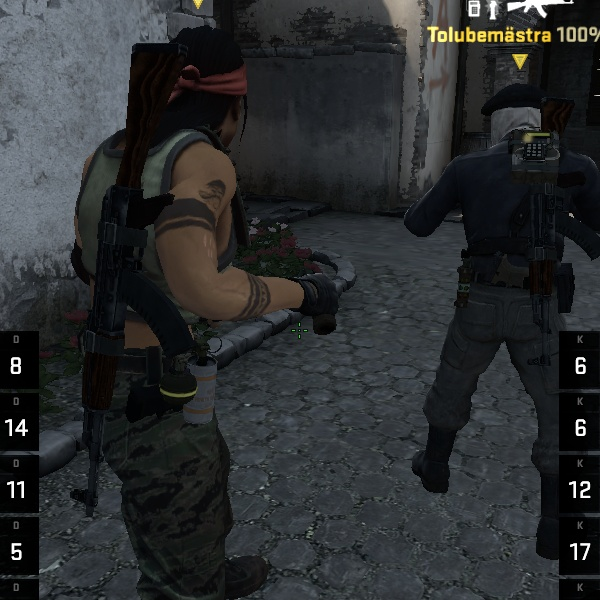t_body: (25, 3, 356, 510), (410, 52, 584, 506)
t_head: (133, 24, 277, 156)
